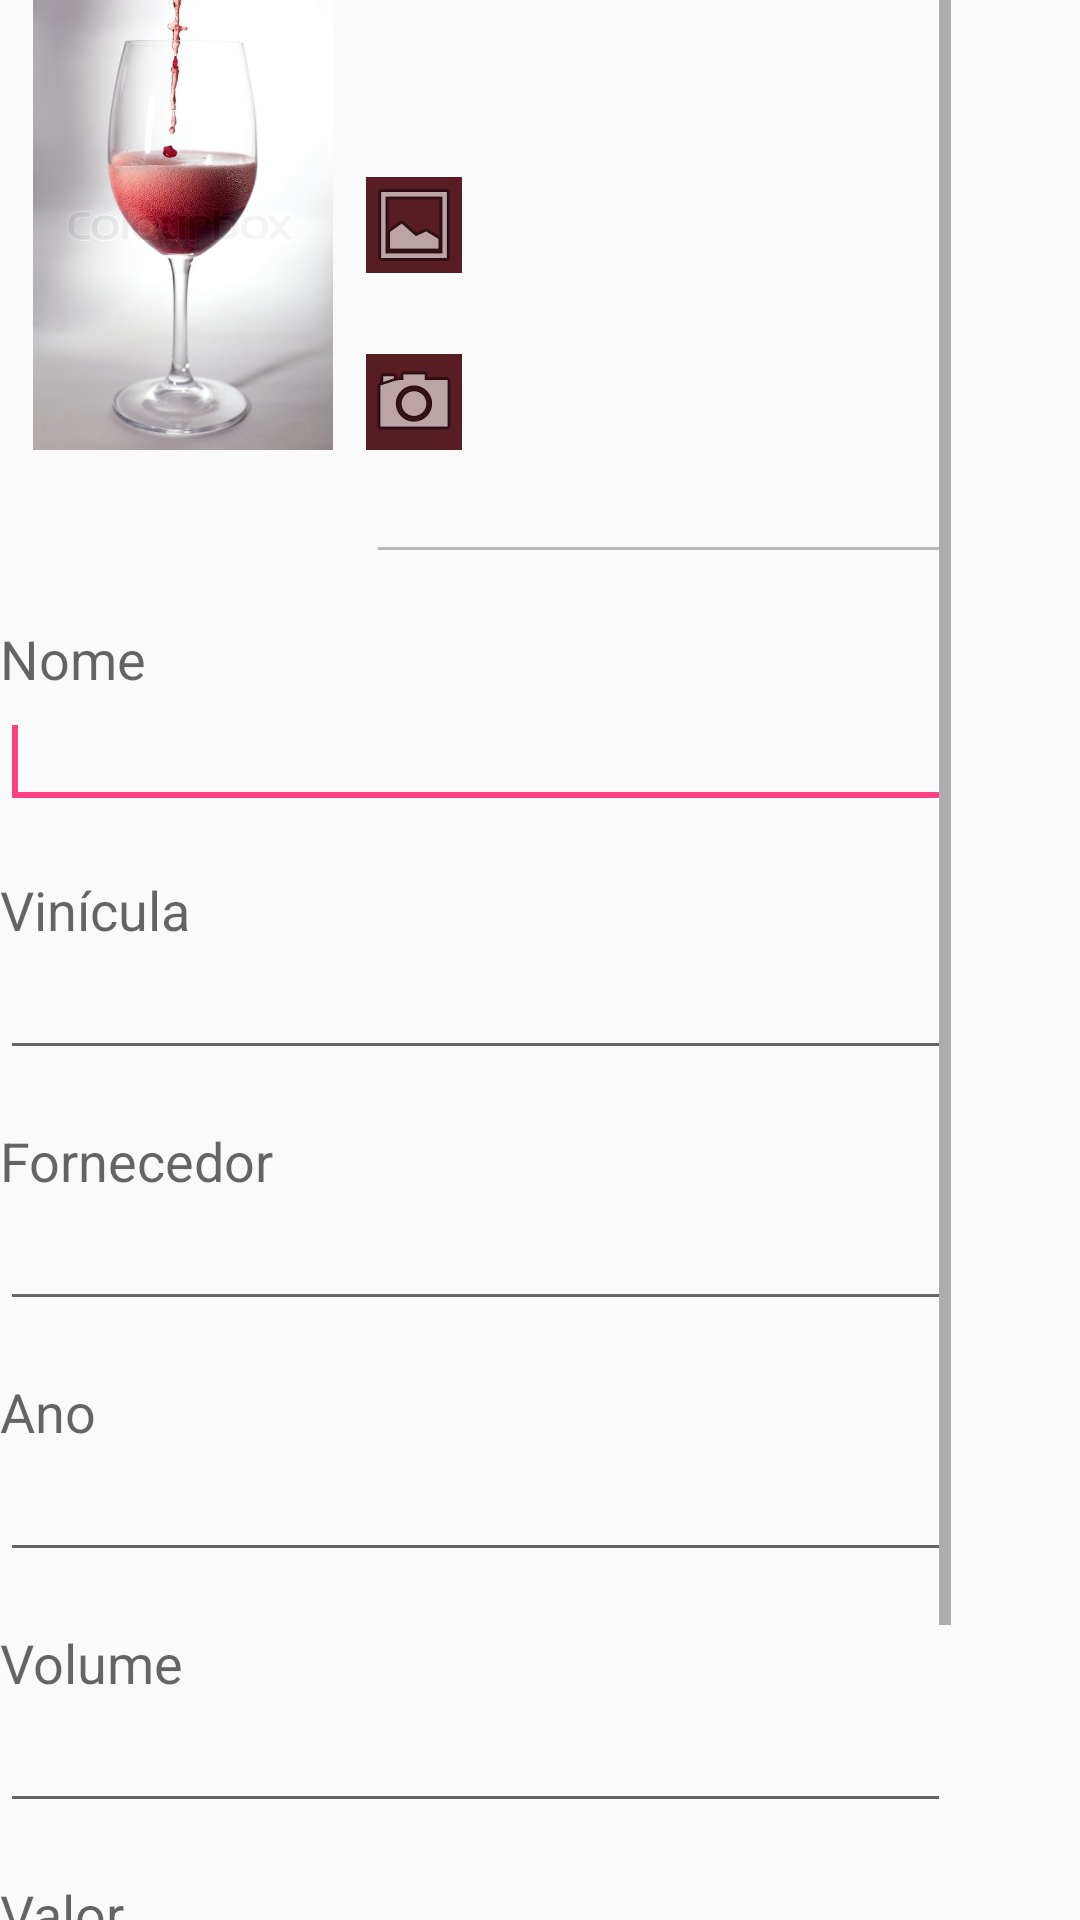

Point at icon controls on the screen. Image size 1080px x 1920px, points as point (x, y).
camera: point (414, 402)
gallery: point (414, 225)
